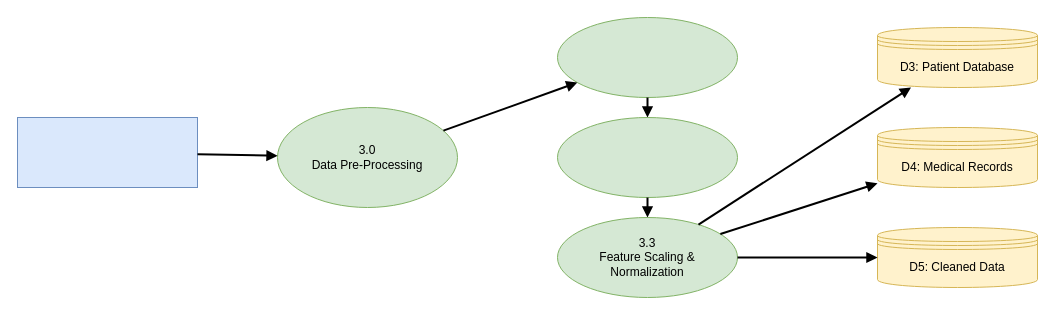
This 1055x315 diagram has some shape labels left out. Here are the shapes that lost their labels. From the top down, the centre of each, then its label:
the point at 647,57: 3.1 Handle Missing Values
the point at 107,152: Patient Data Collection (Module 2)
the point at 647,157: 3.2 Encode Categorical Data
